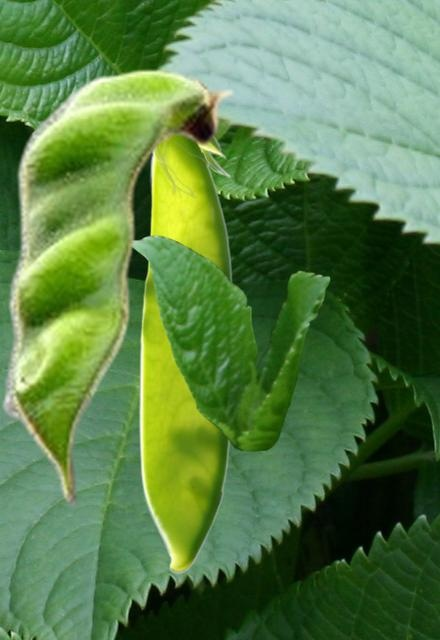pea: (0, 68, 234, 507), (139, 137, 234, 573)
